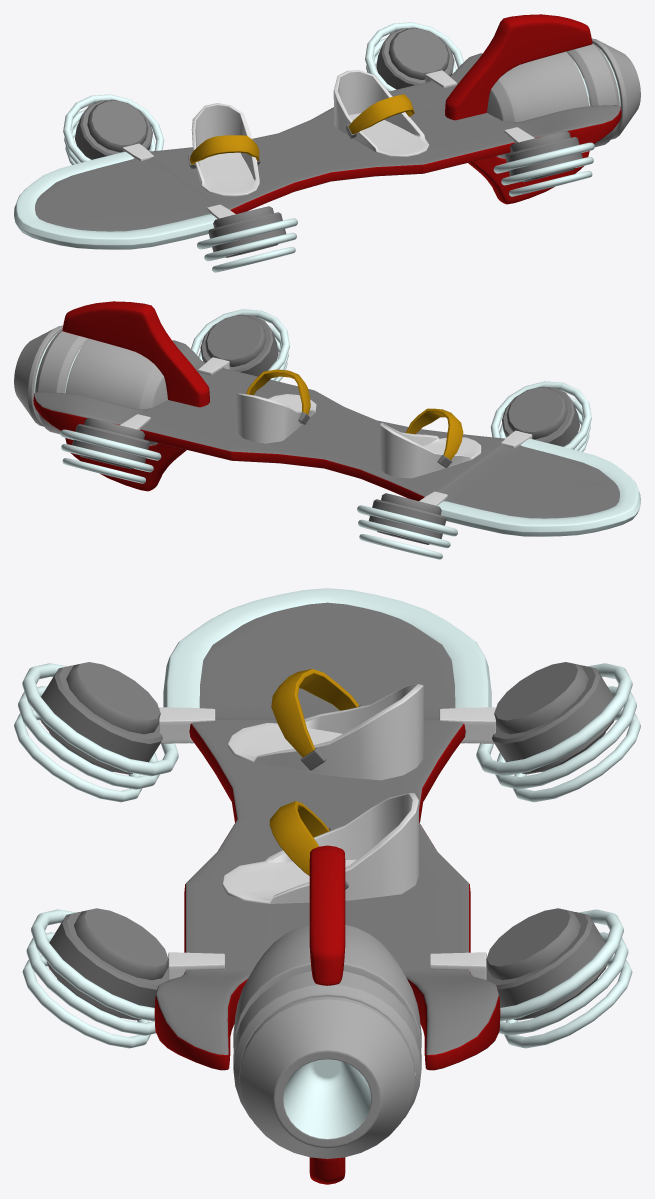
File: HoverBoard01_Left(1).fbx
3 renders of one model, top to bottom at view 1: azimuth 30°, elevation 25°; view 2: azimuth 150°, elevation 25°; view 3: azimuth 270°, elevation 25°, orthographic. The views are drawn at different scales.
Visible parts, largest first — view 1: Board1, Boot02, Magnets2, Rocket, Fins, Rings, pCube16, Brackets, polySurface80; view 2: Board1, Magnets2, Rocket, Boot02, Fins, Rings, pCube16, Brackets; view 3: Board1, Rocket, Magnets2, Rings, Boot02, pCube16, Fins, Brackets.
Part boxes in pixels (bbox=[...]): Board1: bbox=[35, 53, 621, 231]; Boot02: bbox=[188, 70, 429, 196]; Magnets2: bbox=[75, 27, 582, 257]; Rocket: bbox=[487, 38, 640, 158]; Fins: bbox=[445, 14, 592, 204]; Rings: bbox=[63, 22, 594, 272]; pCube16: bbox=[14, 151, 217, 249]; Brackets: bbox=[122, 70, 534, 218]; polySurface80: bbox=[382, 28, 453, 84]; Board1: bbox=[33, 340, 619, 518]; Magnets2: bbox=[72, 314, 579, 544]; Rocket: bbox=[14, 325, 167, 445]; Boot02: bbox=[236, 369, 481, 478]; Fins: bbox=[62, 301, 209, 491]; Rings: bbox=[60, 309, 591, 559]; pCube16: bbox=[437, 438, 640, 536]; Brackets: bbox=[120, 357, 532, 505]; Board1: bbox=[154, 602, 500, 1070]; Rocket: bbox=[233, 924, 421, 1158]; Magnets2: bbox=[39, 662, 615, 1020]; Rings: bbox=[14, 663, 640, 1048]; Boot02: bbox=[222, 669, 423, 903]; pCube16: bbox=[163, 588, 491, 708]; Fins: bbox=[309, 845, 345, 1184]; Brackets: bbox=[159, 707, 495, 979].
Size of the model in its own units: 75.21 by 21.67 by 39.78.
